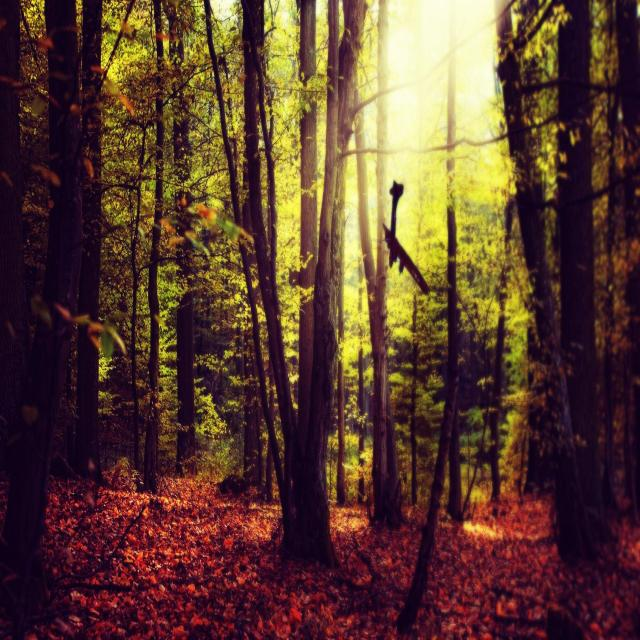airplane: (382, 180, 429, 294)
